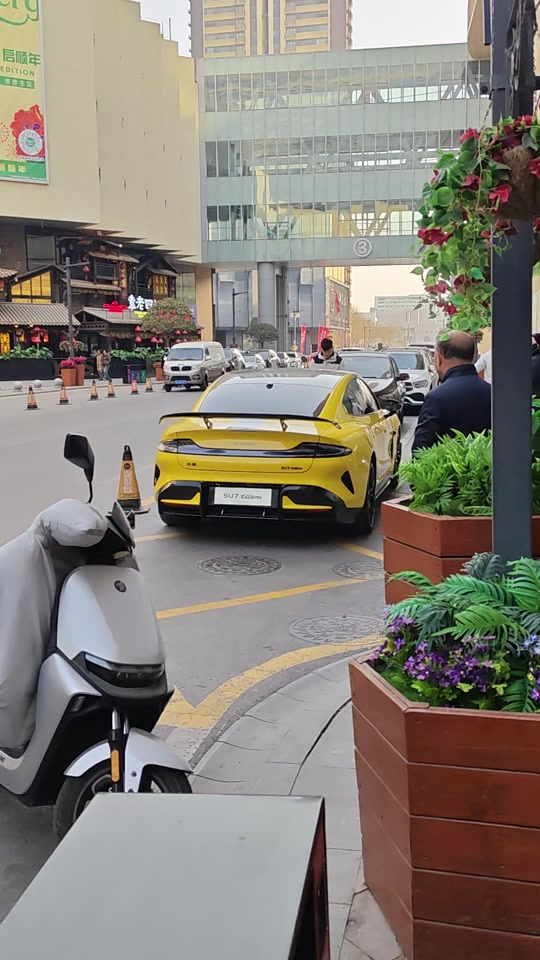other: (360, 340, 435, 410), (165, 330, 222, 388)
su7: (148, 359, 398, 530)
